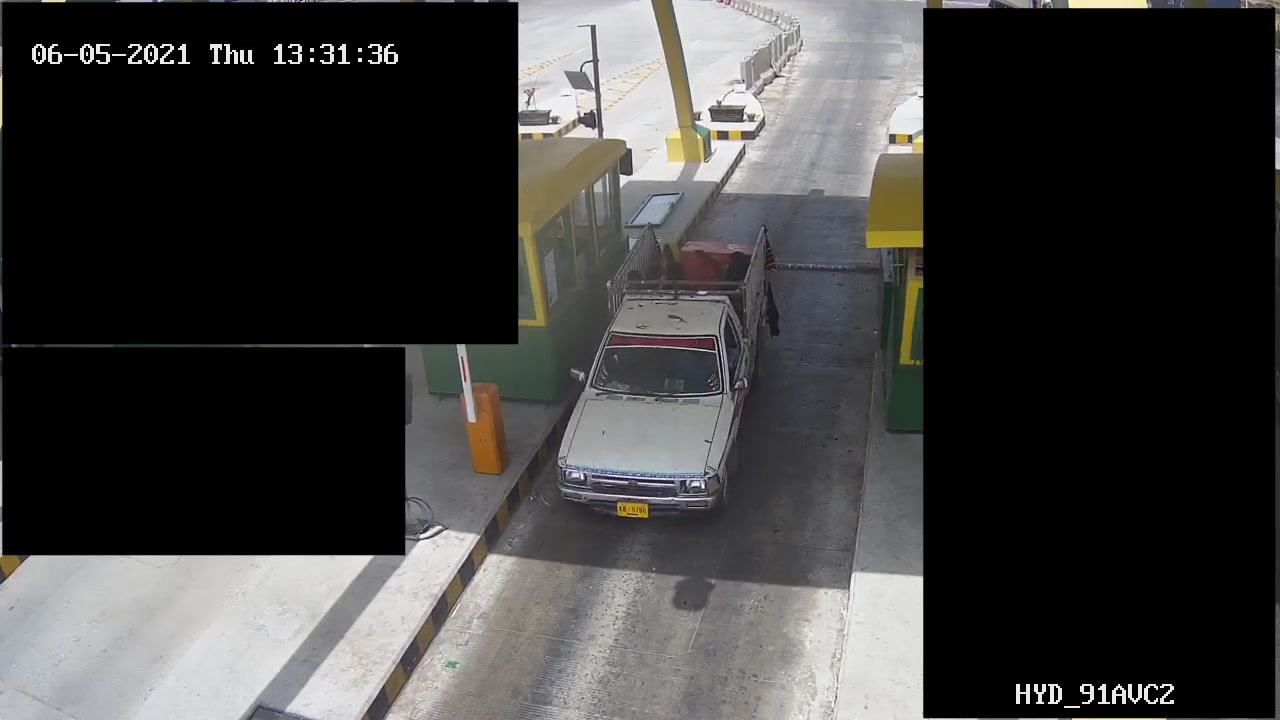F1: (548, 216, 783, 526)
